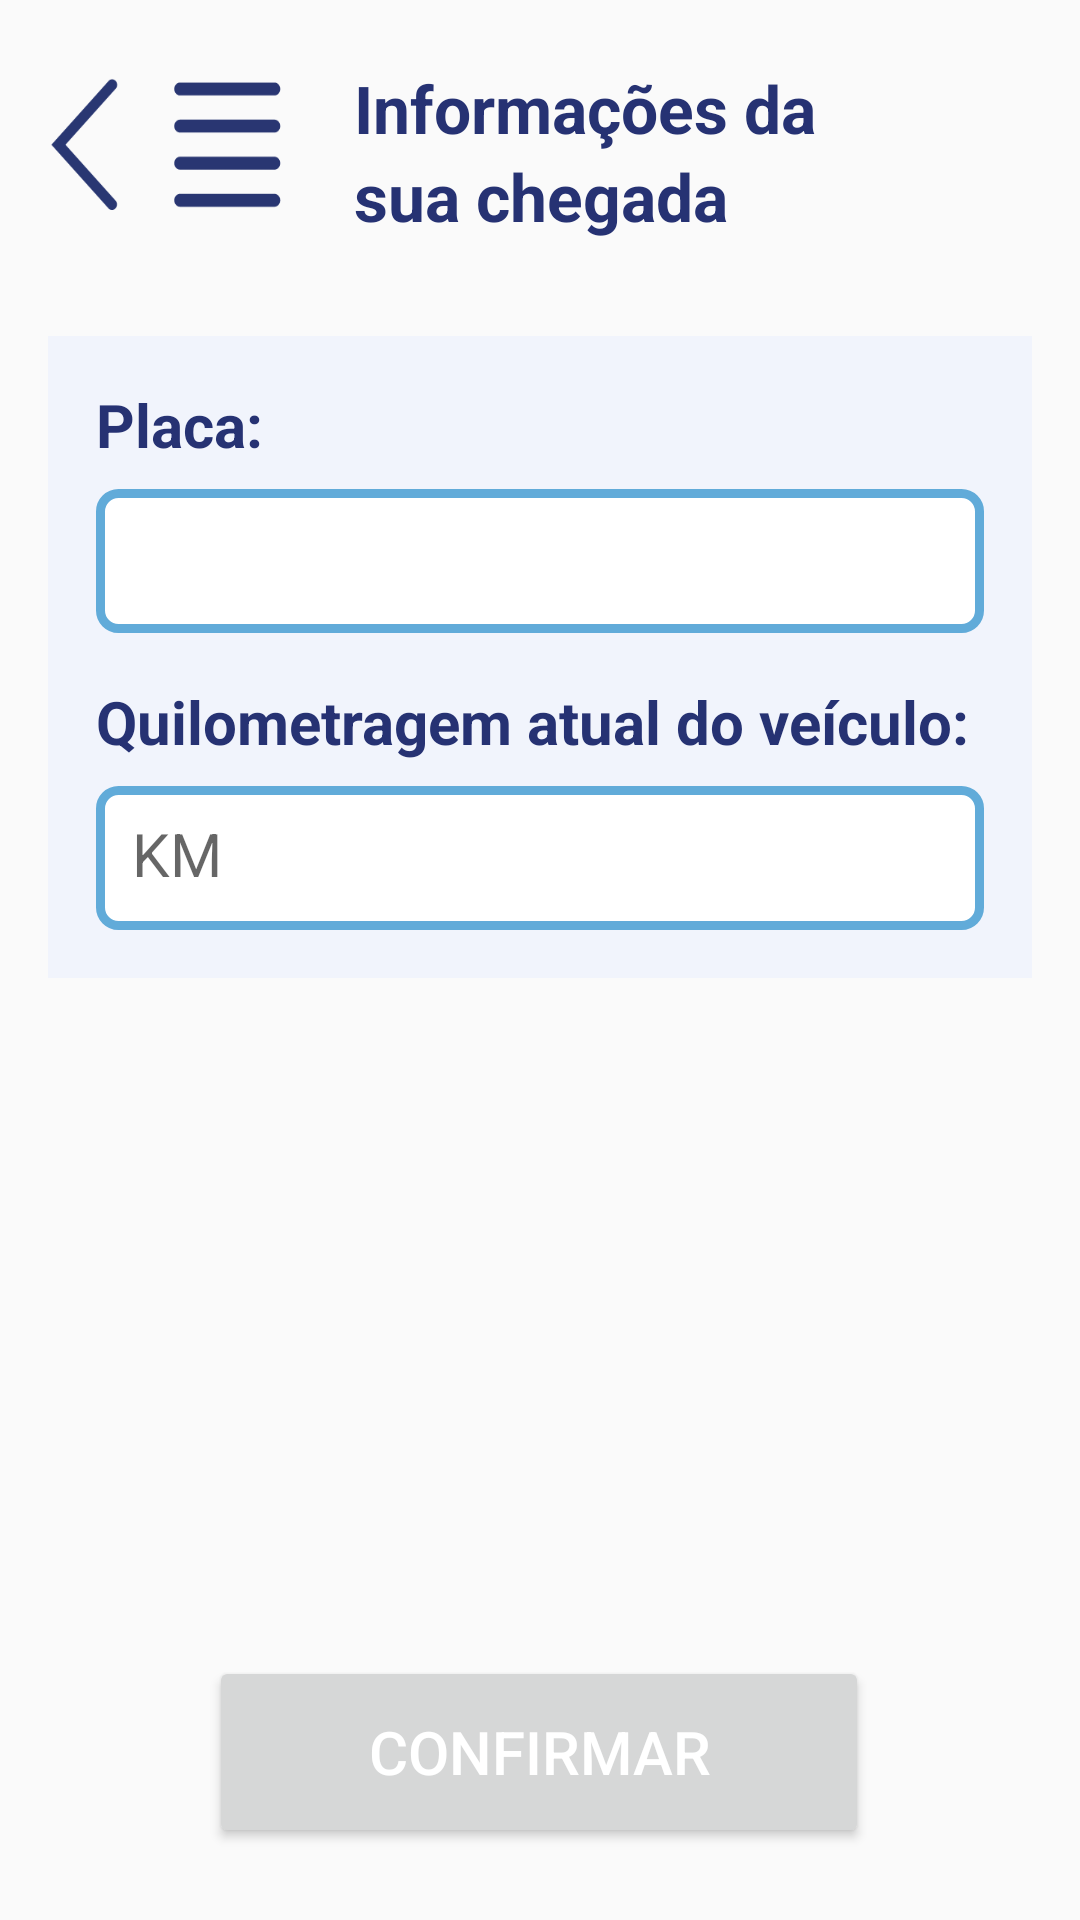

Screen size 1080 × 1920. Icon name, then its box in pixels as {"left": x1, "top": y1, "right": x2, "bottom": y2}:
voltar menu: {"left": 51, "top": 79, "right": 281, "bottom": 210}
